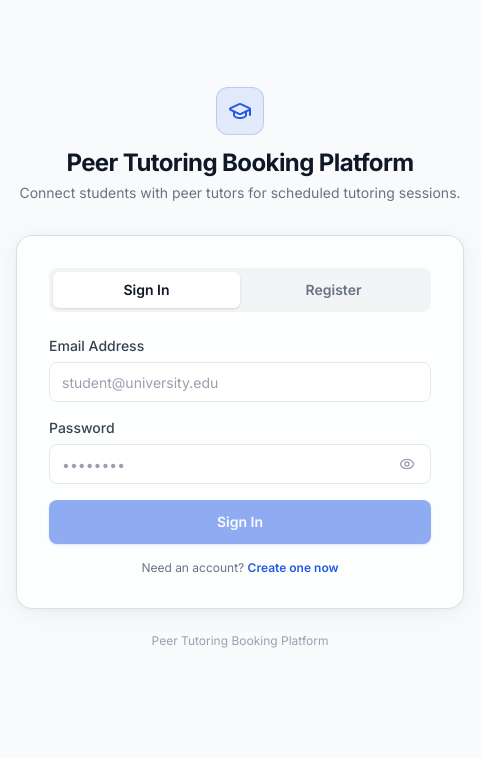
LoginPage — register form validation › shows a password mismatch error when passwords do not match
This screenshot has width=481, height=758.
Click the button "Register" at {"x": 334, "y": 290}, box [240, 272, 427, 308]
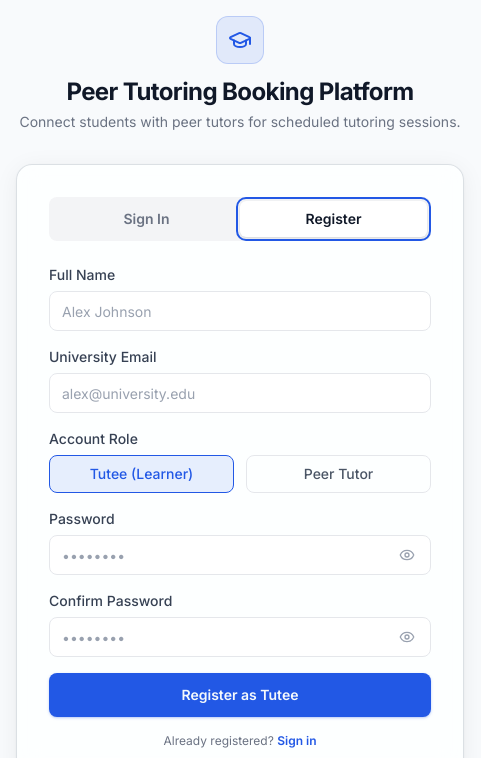
Type "Test User" into the field labelled "Full Name" at {"x": 240, "y": 311}, box [49, 291, 431, 331]
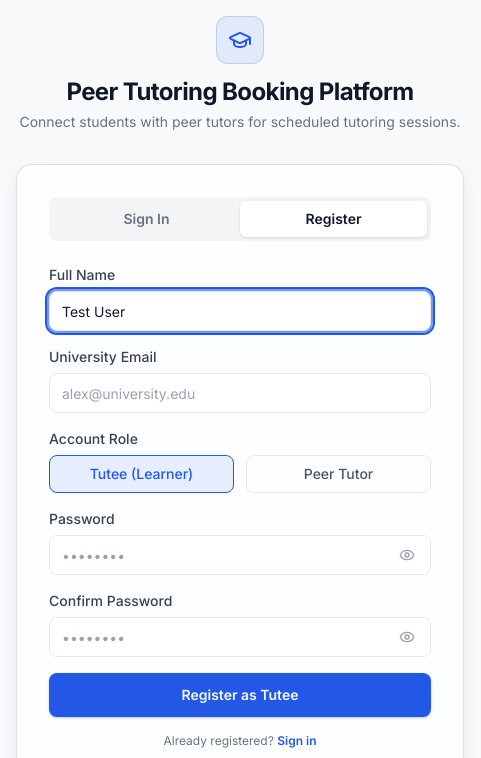
Type "test@university.edu" into the field labelled "University Email" at {"x": 240, "y": 393}, box [49, 373, 431, 413]
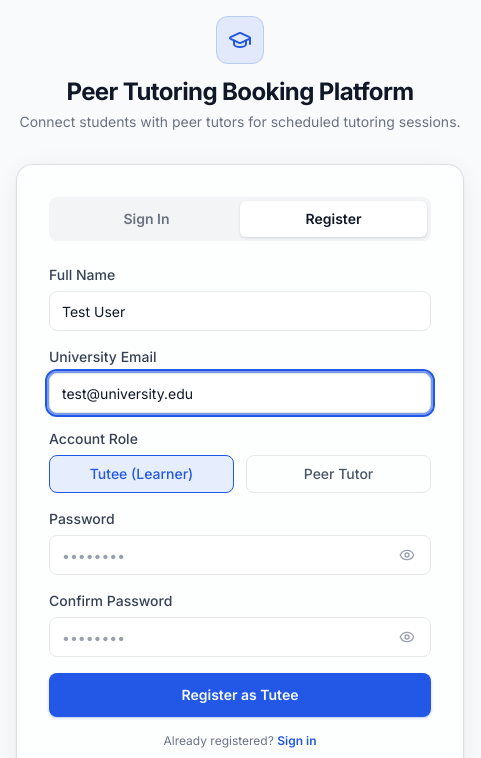
Note: Type password in the first password field (label: "Password")
Type "validpassword" into the password field labelled "Password" at {"x": 240, "y": 555}, box [49, 535, 431, 575]
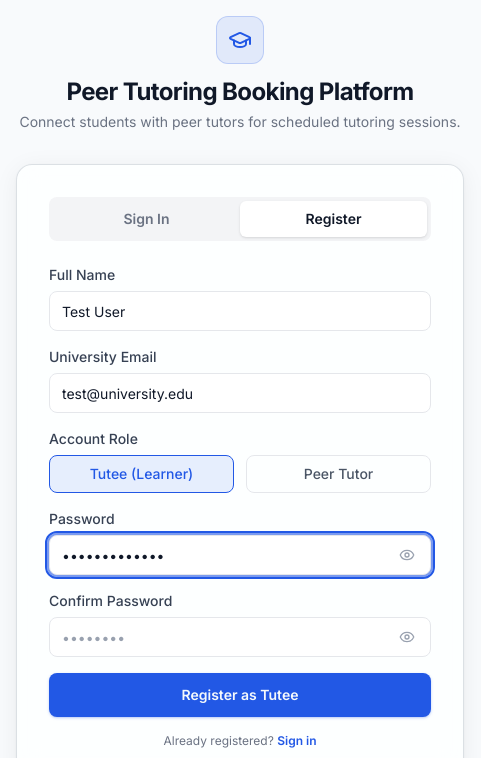
Type "differentpassword" into the password field labelled "Confirm Password" at {"x": 240, "y": 637}, box [49, 617, 431, 657]
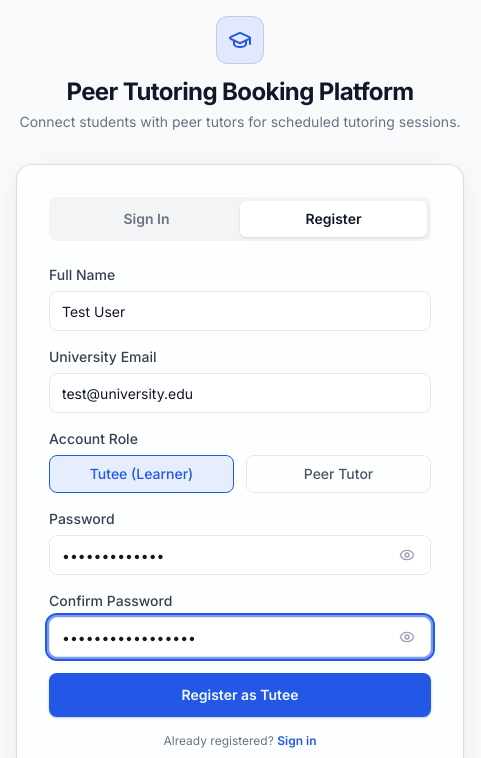
Click the button "Register as Tutee" at {"x": 240, "y": 695}, box [49, 673, 431, 717]
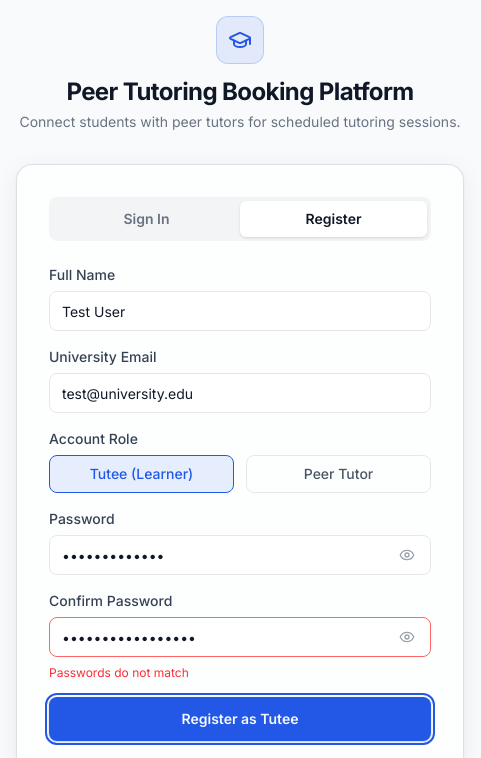
Expected: the text "Passwords do not match" is shown, [49, 665, 189, 680]
